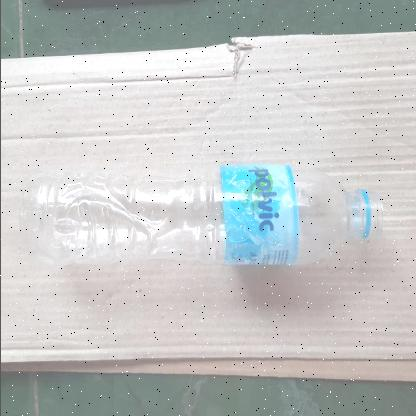Plastic Bottle: (14, 149, 410, 293)
